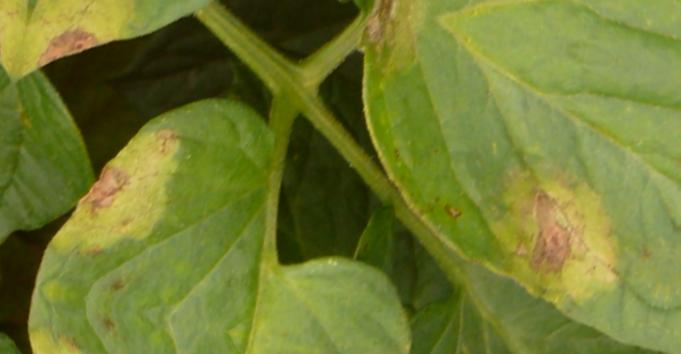Tomato Early blight leaf: (266, 0, 681, 354), (23, 76, 458, 354)
